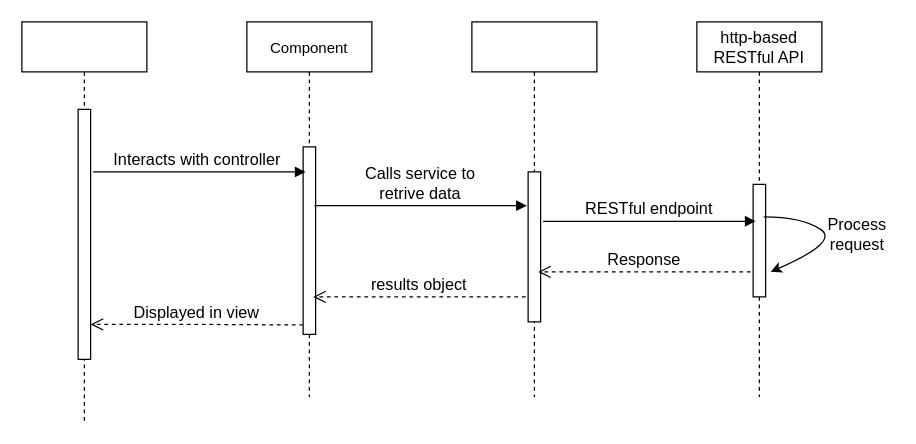
This 916x444 diagram has some shape labels left out. Each missing label, with the box of its shape:
Service: (471, 21, 597, 397)
Template: (21, 21, 147, 422)
